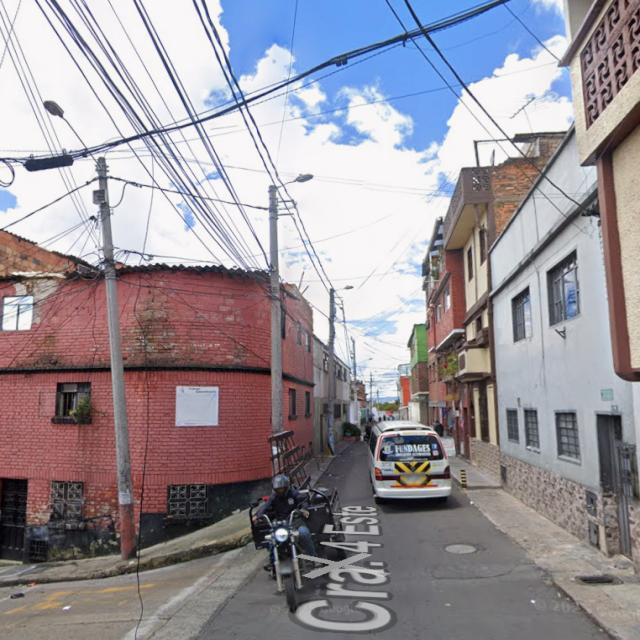fachada: (490, 128, 639, 561), (443, 133, 564, 477), (0, 255, 119, 560), (561, 0, 639, 424), (423, 219, 469, 457), (408, 325, 429, 424), (312, 336, 329, 454), (398, 364, 410, 420)
poste: (98, 158, 136, 560), (269, 186, 283, 434), (328, 288, 335, 454), (352, 338, 360, 424), (369, 372, 372, 417)
